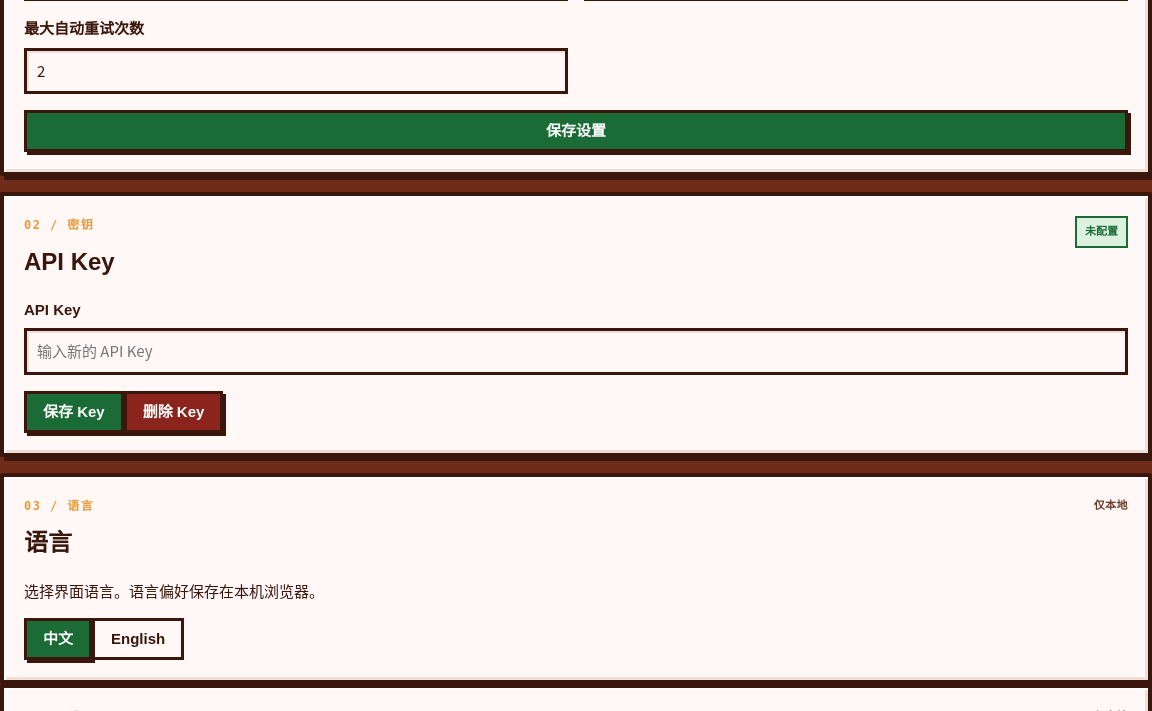
Test: settings page › saves the API key and clears the password input value immediately
(page scrolled)
In the password field with placeholder "输入新的 API Key": coordinates (576, 352) [24,328,1128,375], type "sk-sentinel-value"
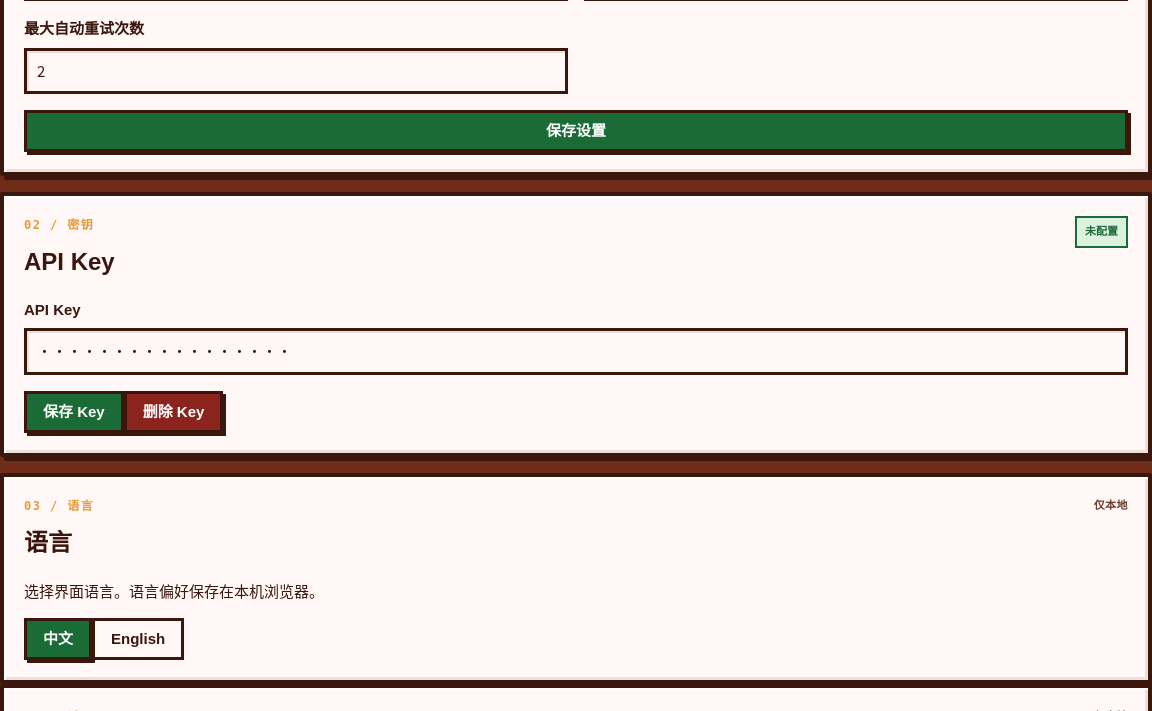
Click the button "保存 Key": coordinates (74, 412) [24,391,124,433]
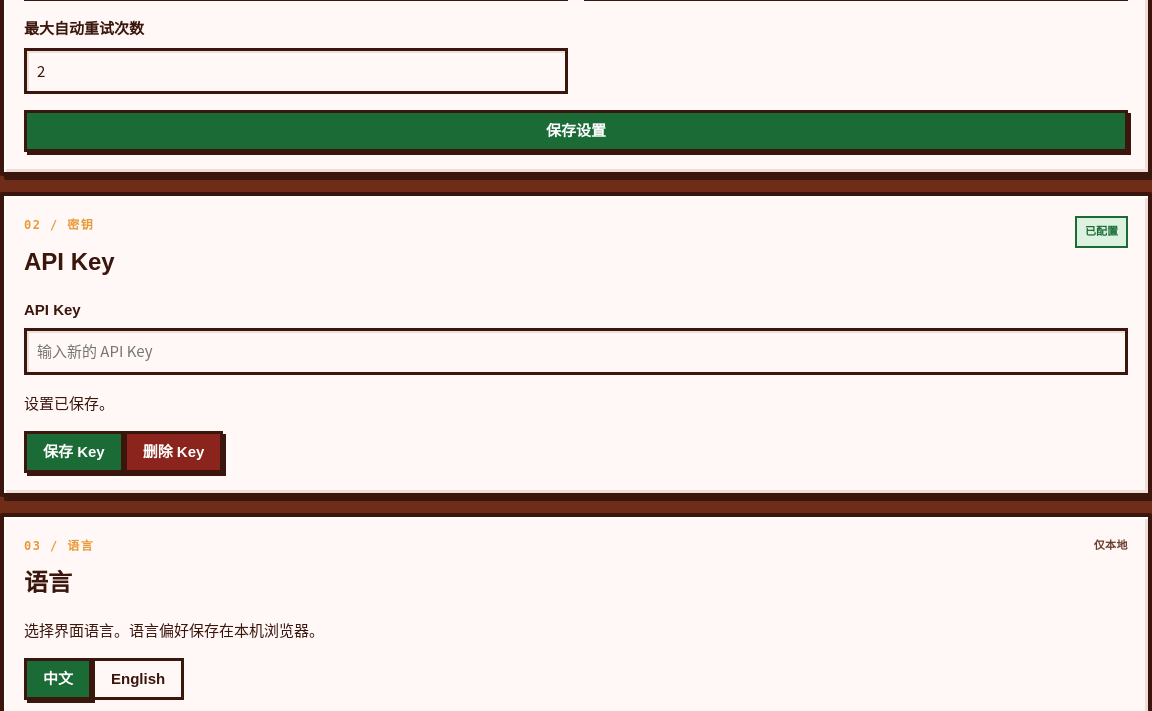
Now the text "设置已保存。" is shown, box [24,392,114,413]
Now the password field with placeholder "输入新的 API Key" is empty, box [24,328,1128,375]
Now the text "已配置" is shown, box [1075,216,1128,248]
